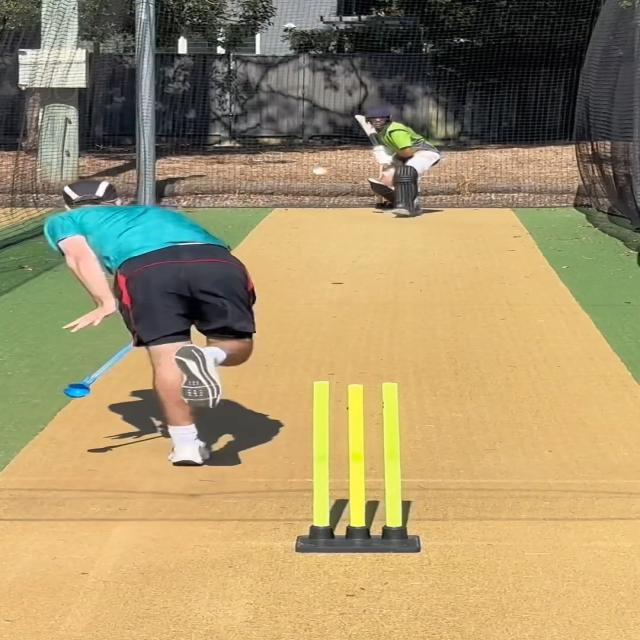ball: (308, 164, 334, 178)
stump: (298, 378, 423, 553)
